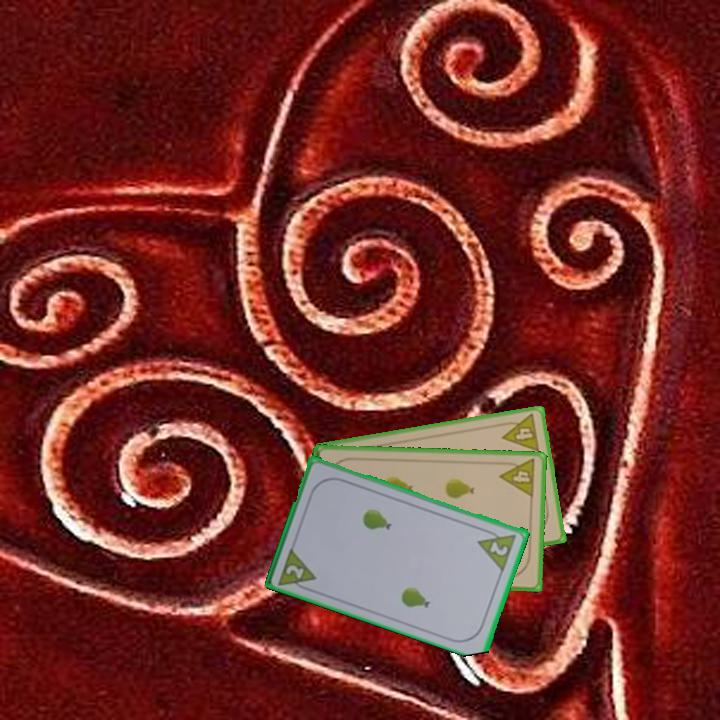2p: (275, 543, 319, 595), (474, 524, 520, 573)
4p: (497, 410, 542, 455), (497, 456, 538, 500)
